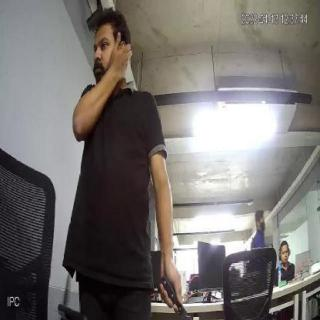knife: (171, 300, 194, 320)
